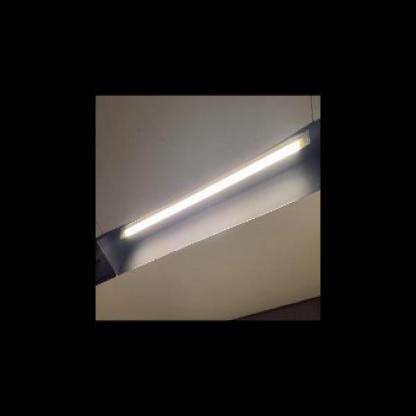light_on: (118, 122, 313, 254)
